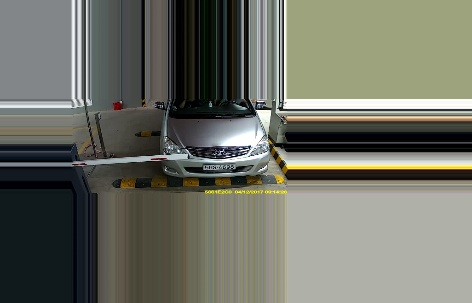plate: (199, 160, 235, 172)
